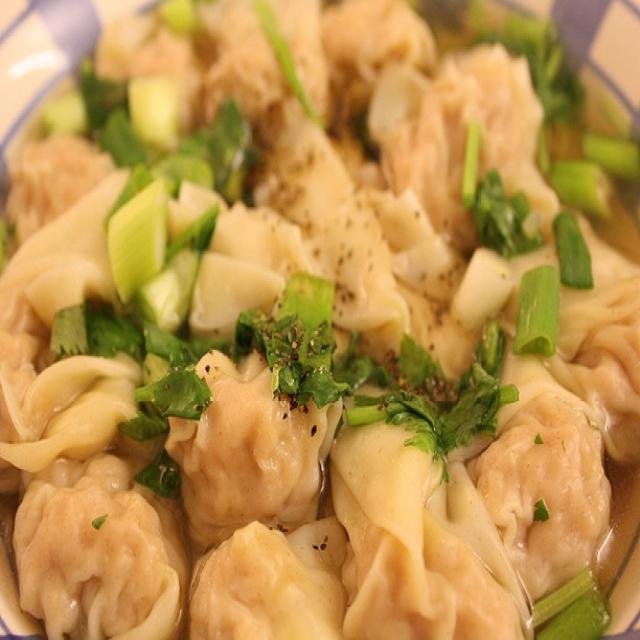汤锅炖物: (9, 12, 636, 622)
